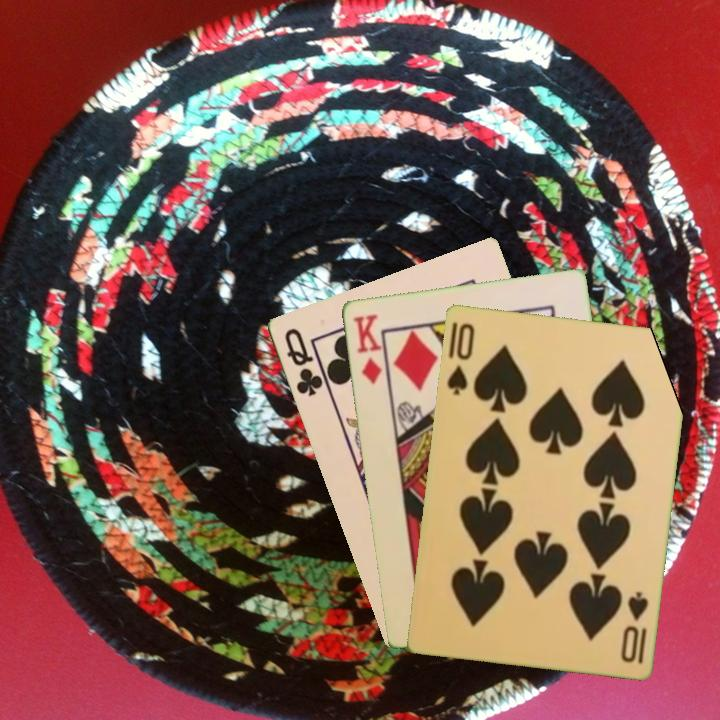10s: (443, 319, 477, 398), (617, 587, 651, 666)
Kd: (349, 310, 384, 387)
Qc: (280, 324, 326, 400)
